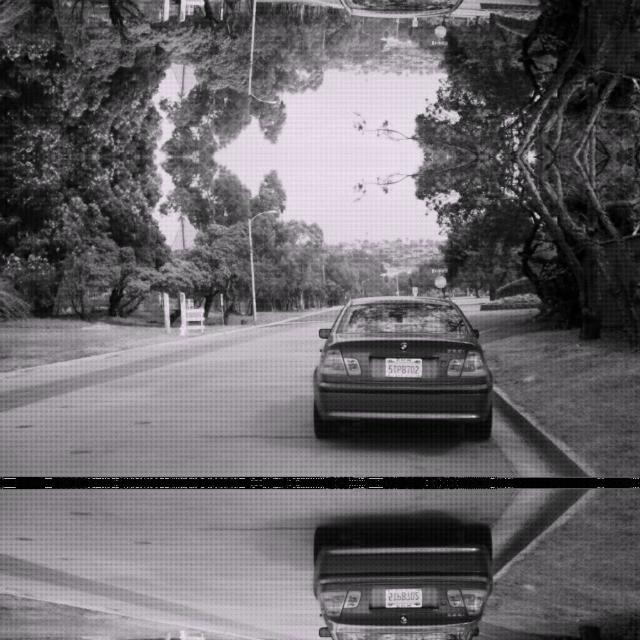stop: (434, 274, 446, 288), (434, 24, 446, 38)
